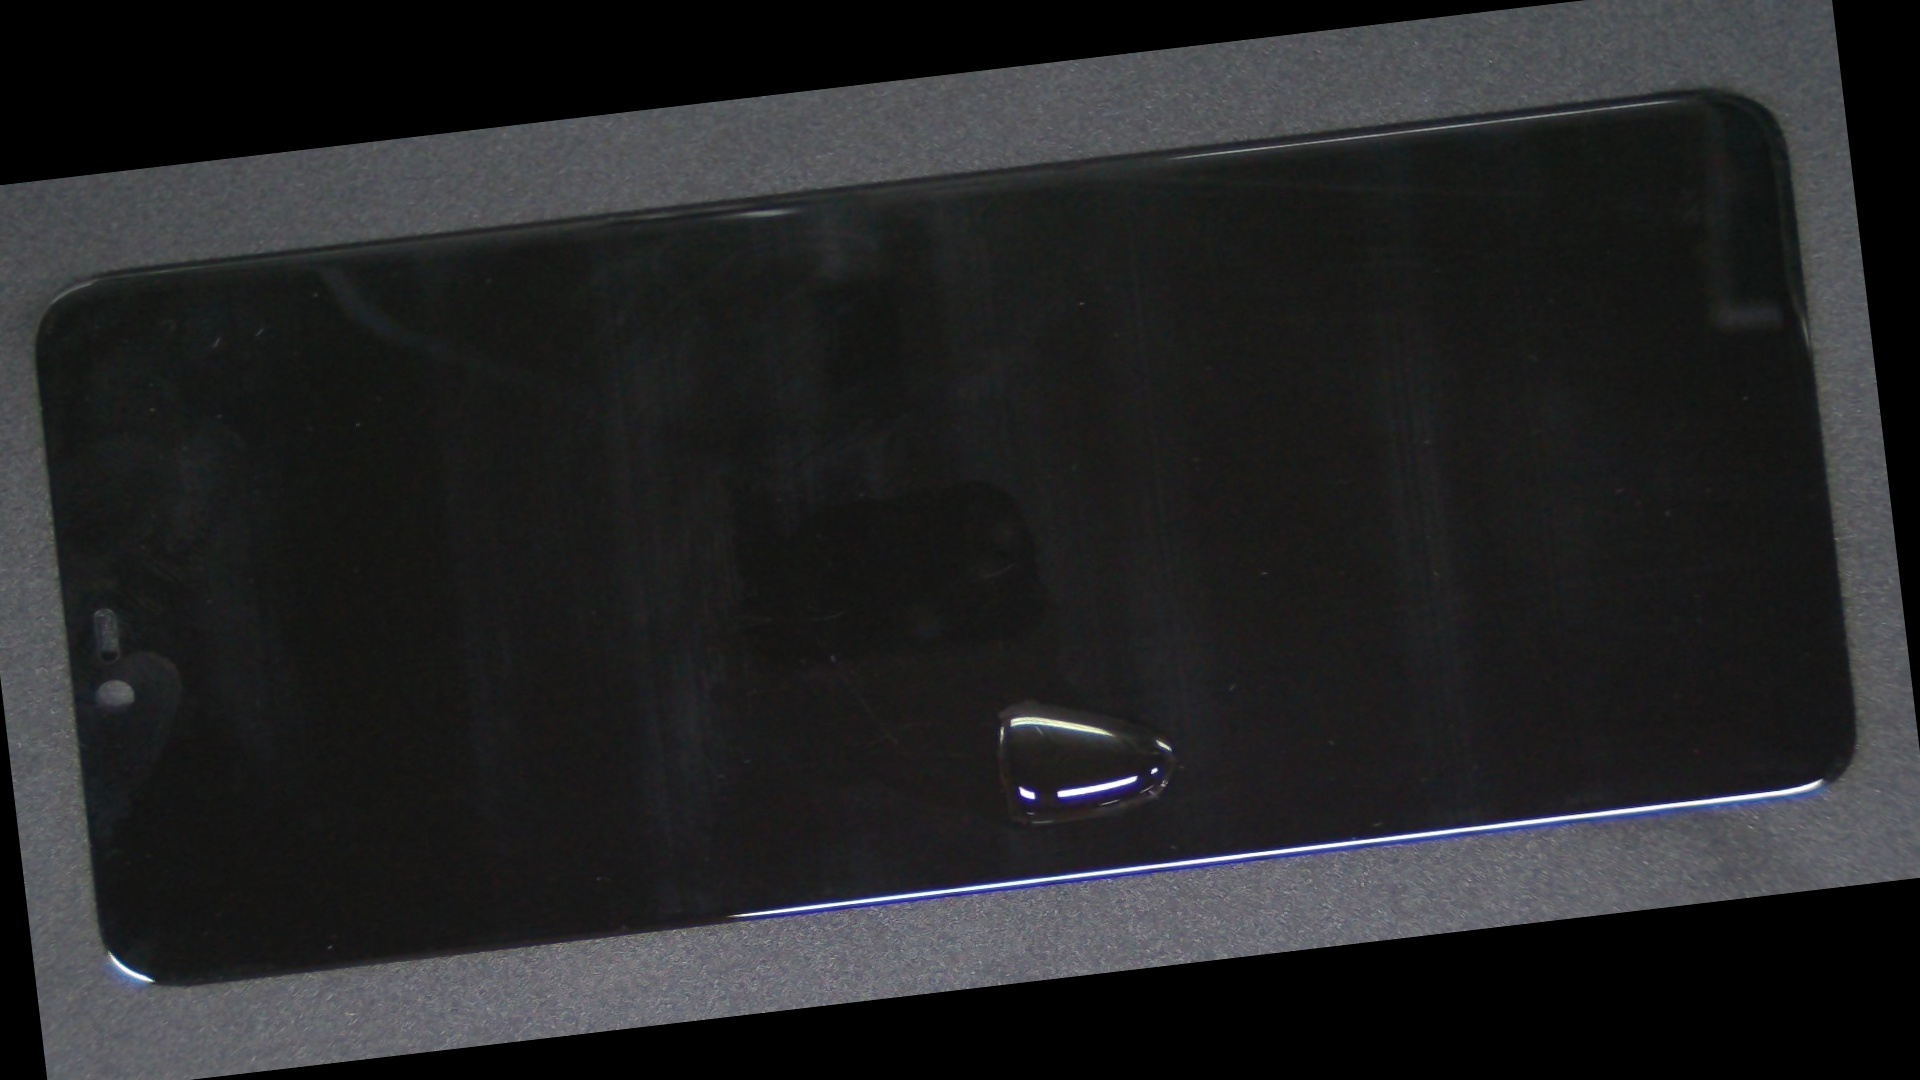oil: (488, 327, 1571, 1036)
